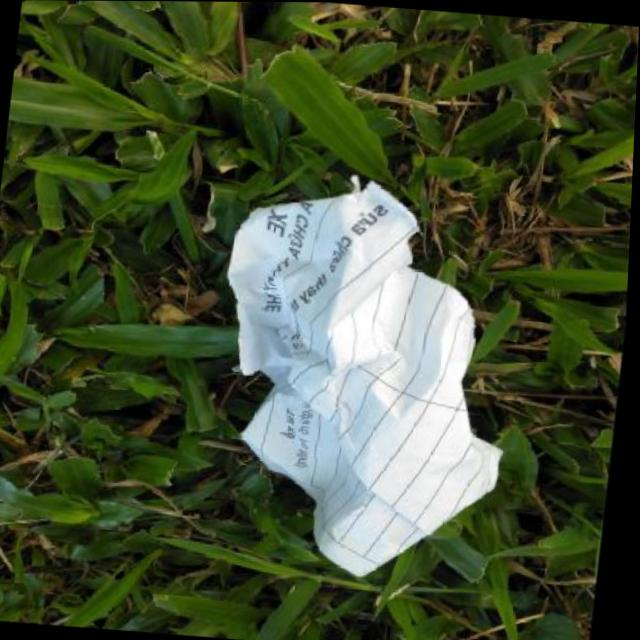paper: (192, 171, 538, 587)
